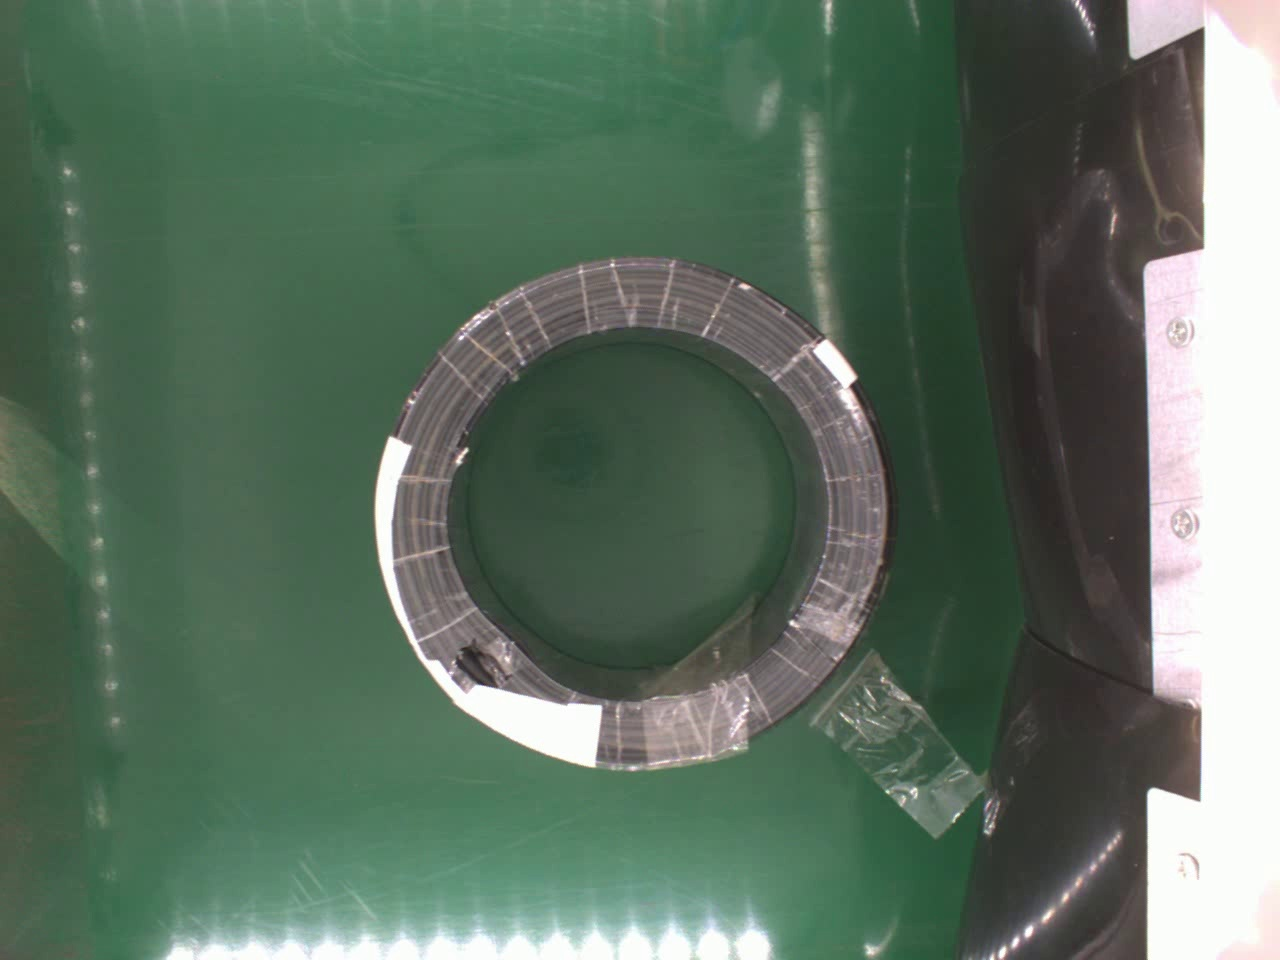black: (358, 243, 900, 784)
